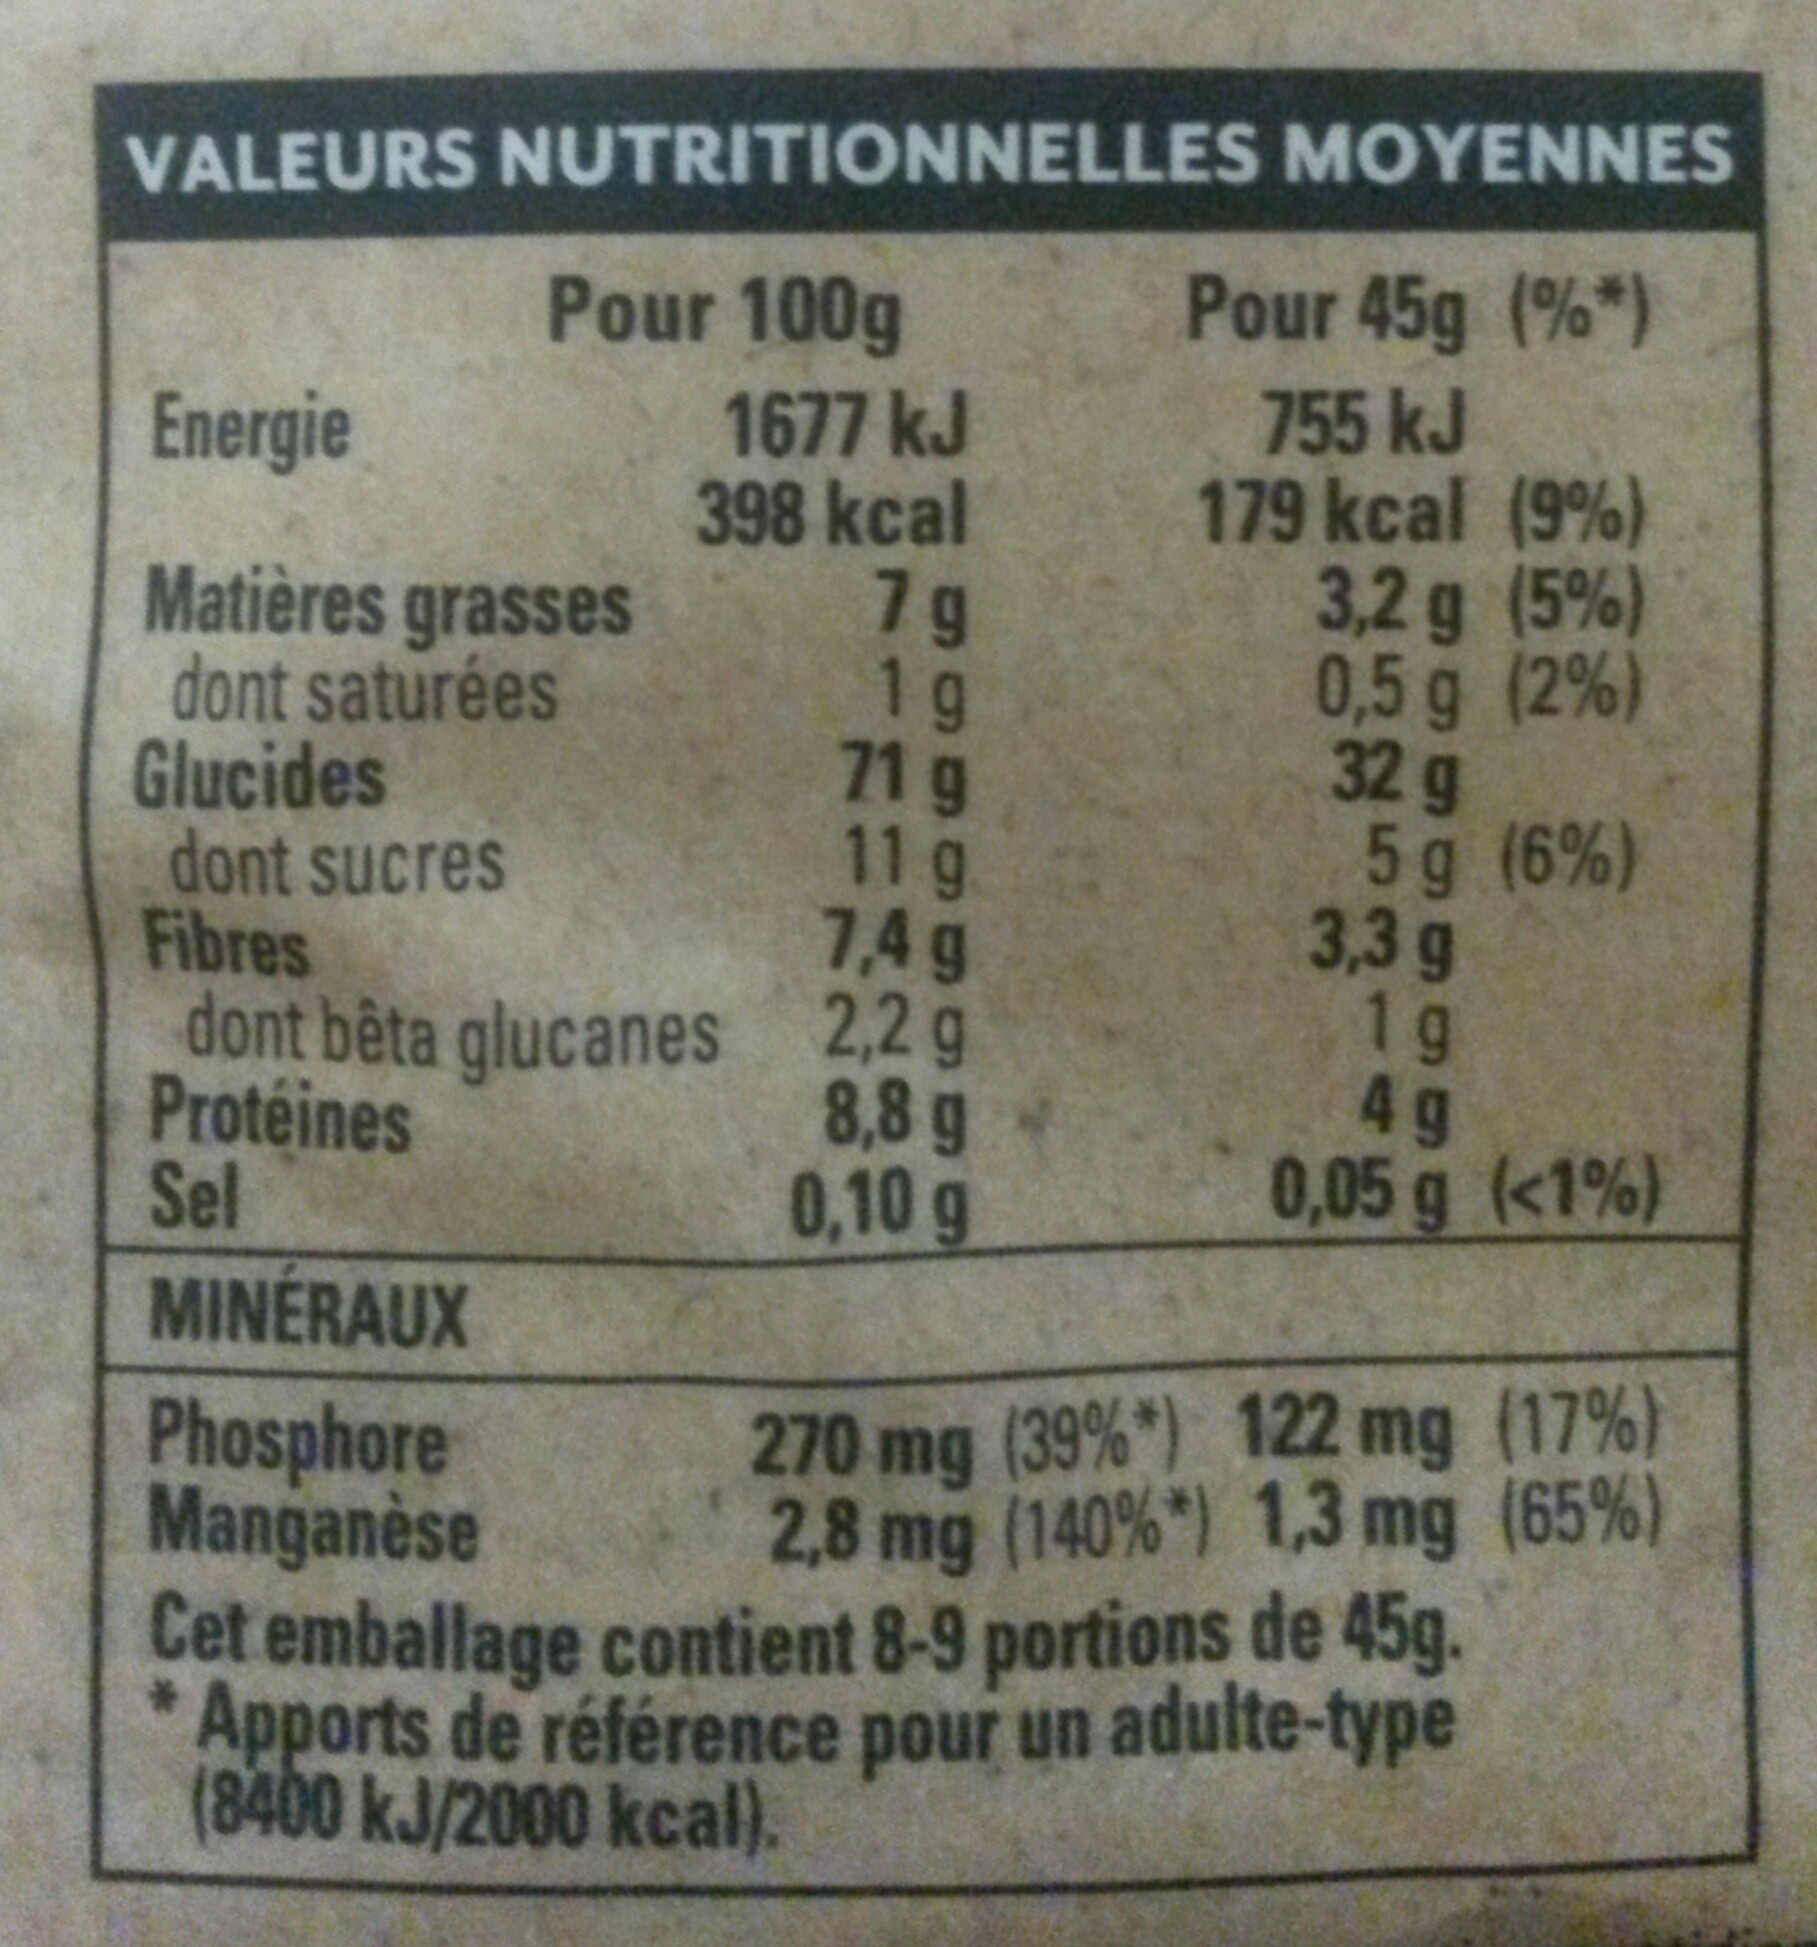column: (138, 386, 640, 1582), (1185, 272, 1467, 1568), (693, 388, 979, 1580), (1491, 265, 1668, 1556)
table: (96, 60, 1761, 1590)
